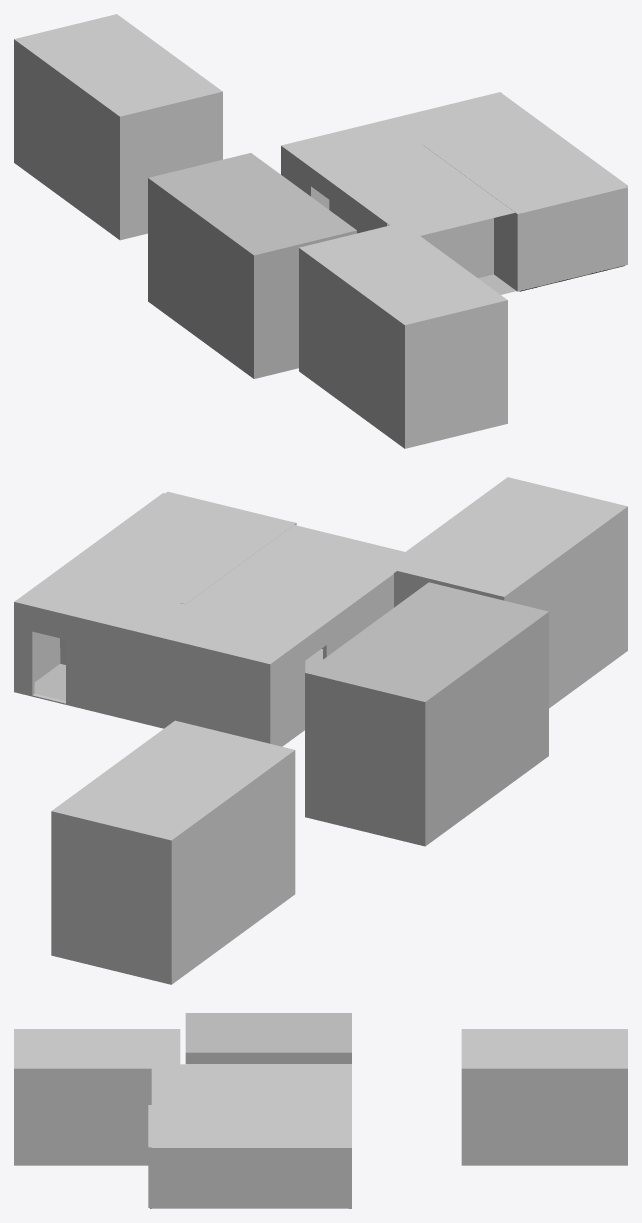
File: MainScen 1.fbx
3 views of the same model, one above another, from view 1: azimuth 30°, elevation 25°; view 2: azimuth 150°, elevation 25°; view 3: azimuth 270°, elevation 25° (orthographic). The views are drawn at different scales.
Visible parts, largest first — view 1: SM_Wall.011, SM_Wall.010, SM_Wall.009, SM_Wall.005, SM_Wall.007, SM_Wall, SM_Wall.001, SM_Wall.003, SM_Wall.002, SM_Wall.006; view 2: SM_Wall.010, SM_Wall.009, SM_Wall.005, SM_Wall.011, SM_Wall.002, SM_Wall, SM_Wall.006, SM_FloorBase_001; view 3: SM_Wall.010, SM_Wall.011, SM_Wall.005, SM_Wall.006, SM_Wall.009, SM_Wall.002, SM_Wall.007, SM_Wall.003.
Boxes of the visible parts, bbox=[...] form: SM_Wall.011: bbox=[299, 223, 507, 448]; SM_Wall.010: bbox=[14, 14, 222, 240]; SM_Wall.009: bbox=[148, 153, 356, 378]; SM_Wall.005: bbox=[286, 94, 622, 238]; SM_Wall.007: bbox=[520, 186, 627, 290]; SM_Wall: bbox=[283, 146, 387, 233]; SM_Wall.001: bbox=[384, 195, 493, 277]; SM_Wall.003: bbox=[422, 143, 521, 291]; SM_Wall.002: bbox=[281, 92, 501, 209]; SM_Wall.006: bbox=[498, 93, 627, 186]; SM_Wall.010: bbox=[51, 720, 295, 984]; SM_Wall.009: bbox=[305, 582, 548, 846]; SM_Wall.005: bbox=[22, 494, 418, 661]; SM_Wall.011: bbox=[384, 477, 627, 708]; SM_Wall.002: bbox=[14, 600, 272, 744]; SM_Wall: bbox=[269, 575, 391, 746]; SM_Wall.006: bbox=[17, 493, 167, 681]; SM_FloorBase_001: bbox=[34, 649, 322, 700]; SM_Wall.010: bbox=[461, 1029, 627, 1165]; SM_Wall.011: bbox=[14, 1029, 180, 1165]; SM_Wall.005: bbox=[151, 1064, 348, 1146]; SM_Wall.006: bbox=[151, 1146, 348, 1208]; SM_Wall.009: bbox=[185, 1013, 351, 1063]; SM_Wall.002: bbox=[348, 1064, 351, 1208]; SM_Wall.007: bbox=[148, 1106, 151, 1207]; SM_Wall.003: bbox=[148, 1105, 297, 1106].
Bounding box in the file's own units: 1636 × 550 × 3144.
